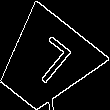L_SW: (17, 33, 74, 92)
